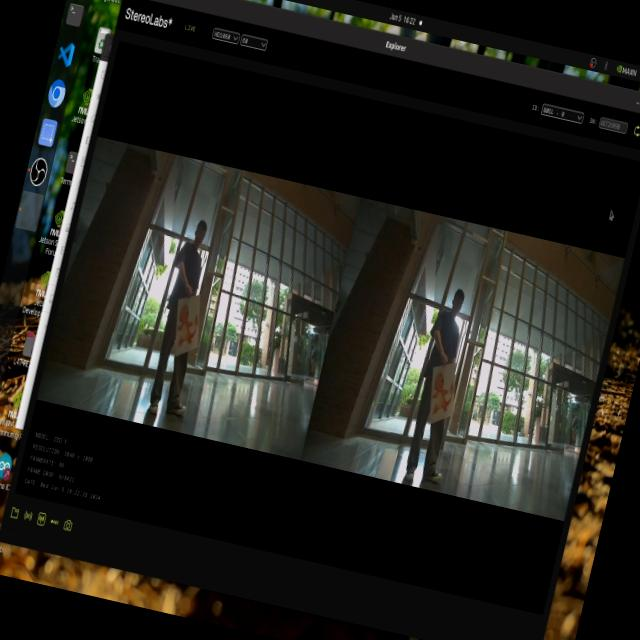red: (167, 298, 211, 354), (426, 370, 460, 420)
